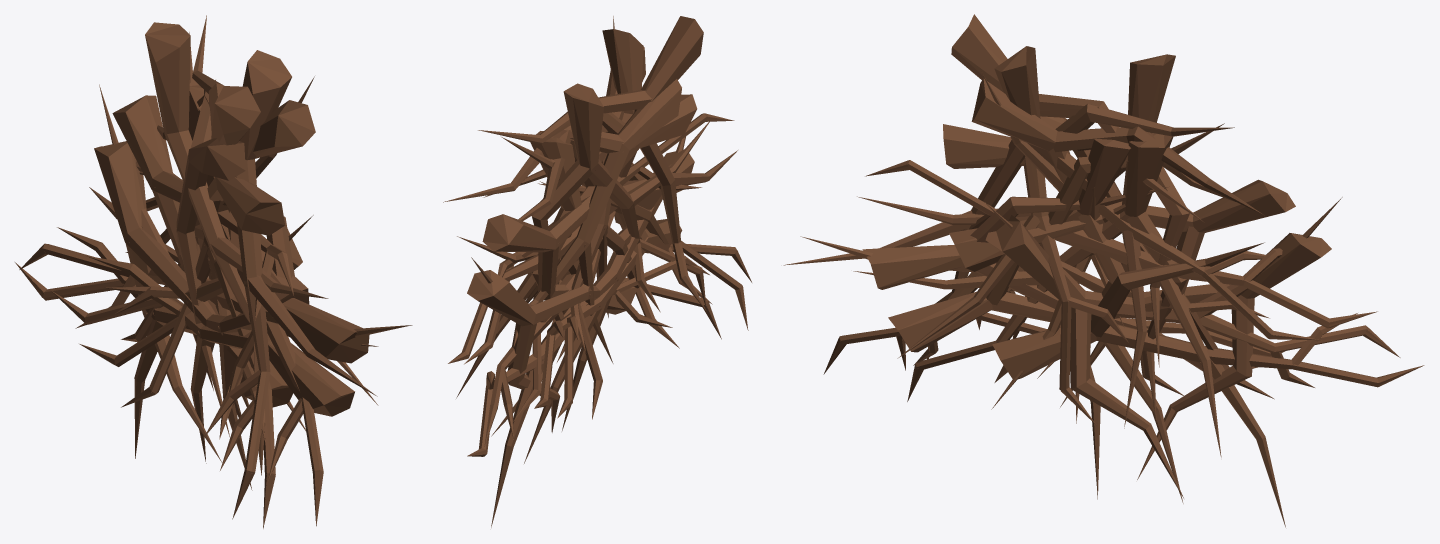
File: roots.fbx
3 renders of one model, left to right at view 1: azimuth 30°, elevation 25°; view 2: azimuth 150°, elevation 25°; view 3: azimuth 270°, elevation 25°, orthographic. The views are drawn at different scales.
Parts seen in each view (by area): view 1: Roots; view 2: Roots; view 3: Roots.
Part boxes in pixels (<box>): Roots: <box>15,15,412,528</box>; Roots: <box>443,16,751,527</box>; Roots: <box>783,14,1424,527</box>.
Bounding box in the file's own units: 54.78 × 146 × 177.
